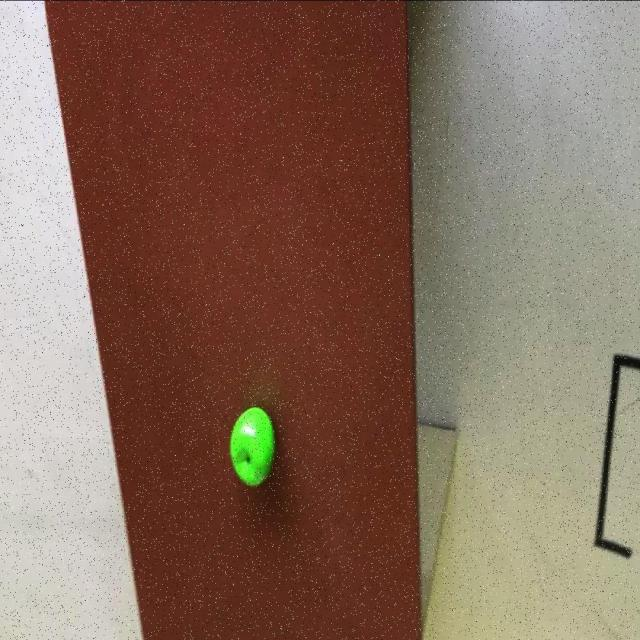Apple: (228, 404, 276, 485)
